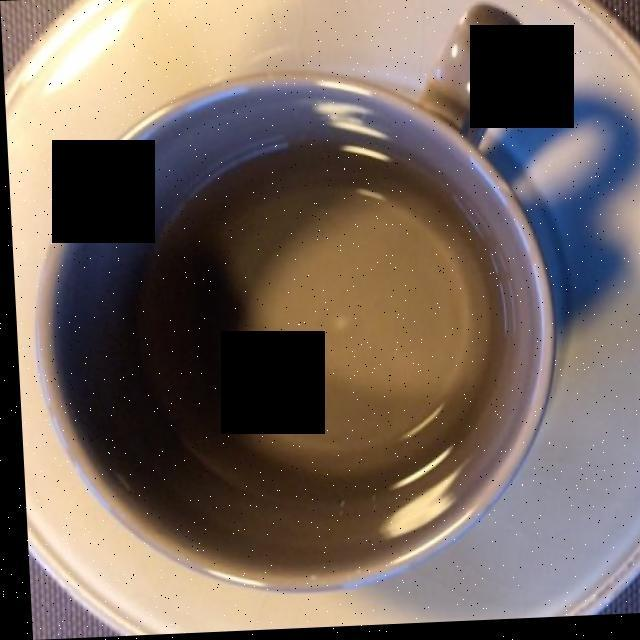tea: (137, 168, 489, 524)
